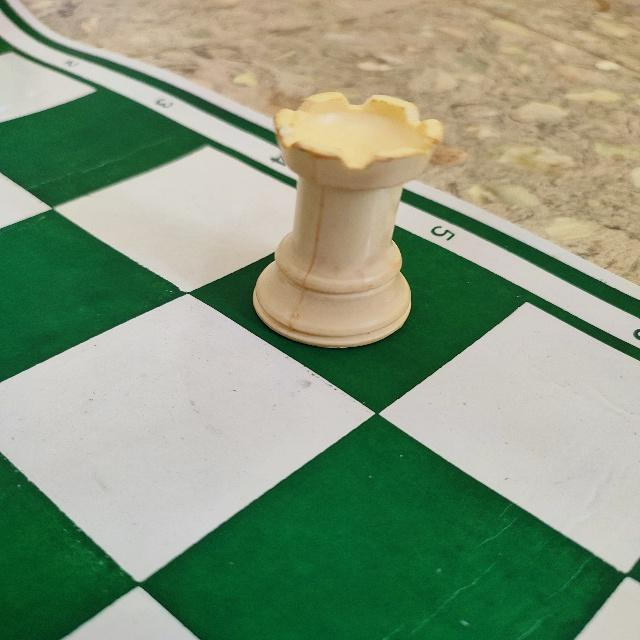Rook: (249, 88, 447, 352)
